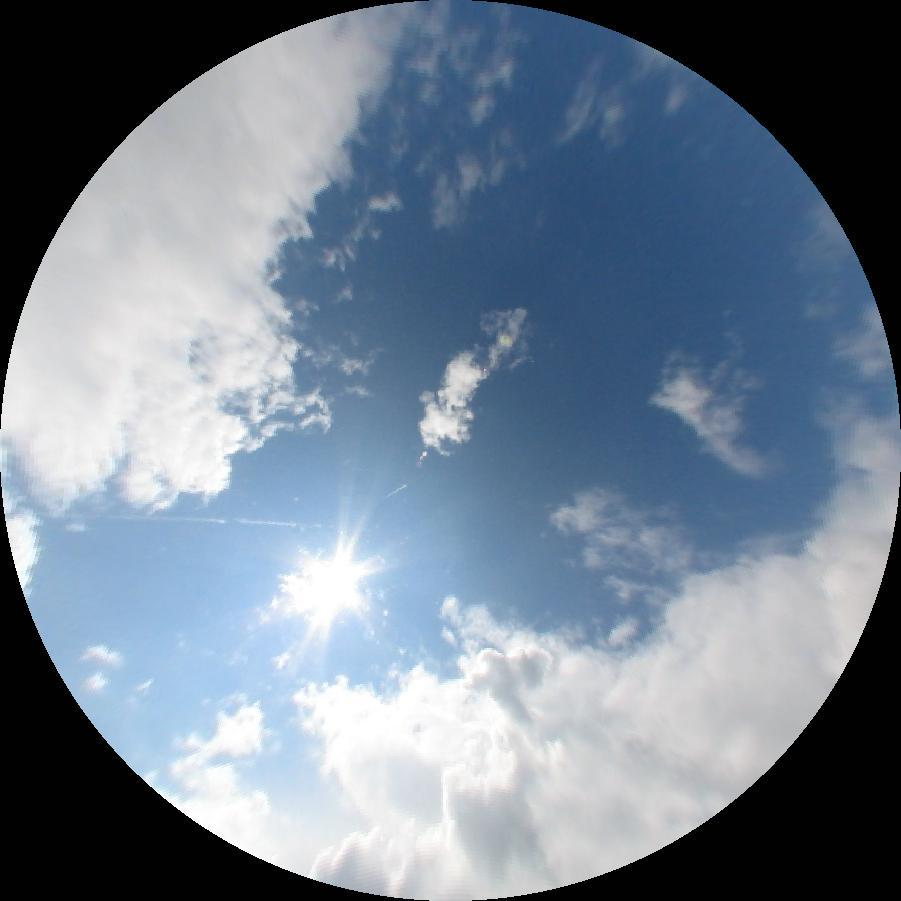contrail young: (380, 483, 408, 501)
parasite: (10, 512, 297, 525)
sun: (310, 553, 363, 615)
